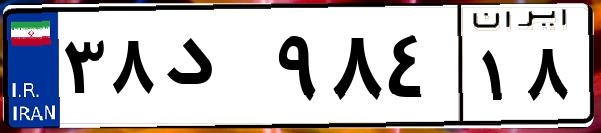1: (475, 38, 525, 113)
3: (57, 26, 110, 100)
4: (385, 28, 445, 110)
8: (330, 28, 385, 110), (525, 38, 570, 115), (110, 28, 158, 98)
9: (270, 28, 330, 110)
د: (158, 20, 270, 120)
